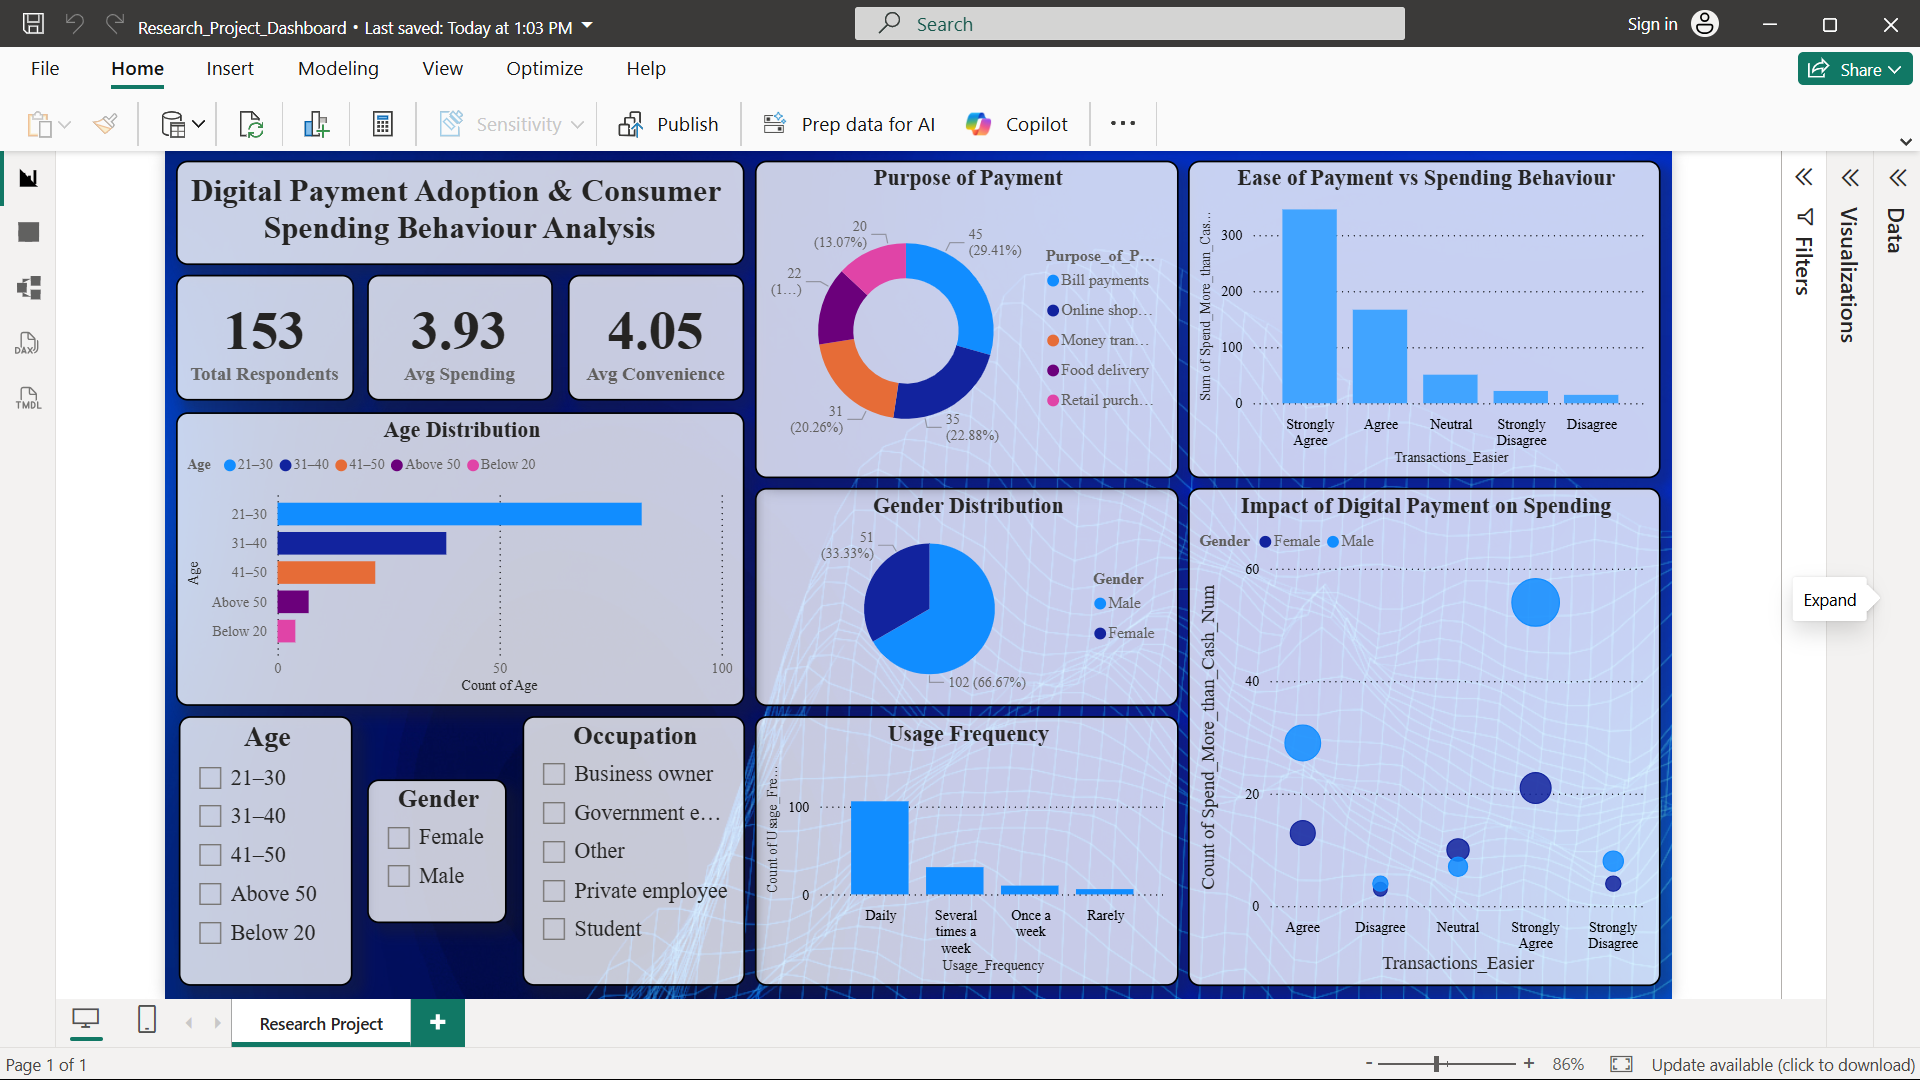

What the dashboard file says about the page in this screenshot:
{"tool":"powerbi","page":{"name":"Research Project","canvas":[1280,720],"ordinal":0},"visuals":[{"type":"textbox","box":[8.9,7.6,483,89],"z":0},{"type":"card","fields":{"Values":["CountNonNull(Research Project.Age )"]},"box":[8.9,105.5,151.3,106.8],"z":1000},{"type":"card","fields":{"Values":["Research Project.Avg_Spending"]},"box":[171.6,105.5,157.6,106.8],"z":2000},{"type":"card","fields":{"Values":["Research Project.Avg_Convenience"]},"box":[341.9,105.5,150,106.8],"z":3000},{"type":"pieChart","title":"Gender Distribution","fields":{"Category":["Research Project.Gender"],"Y":["CountNonNull(Research Project.Gender)"]},"box":[500.8,286,359.7,185.6],"z":4000},{"type":"barChart","title":"Age Distribution ","fields":{"Series":["Research Project.Age "],"Category":["Research Project.Age "],"Y":["CountNonNull(Research Project.Age )"]},"box":[8.9,222.4,483,249.1],"z":5000},{"type":"clusteredColumnChart","title":"Usage Frequency","fields":{"Category":["Research Project.Usage_Frequency"],"Y":["CountNonNull(Research Project.Usage_Frequency)"]},"box":[500.8,480.5,359.7,228.8],"z":6000},{"type":"donutChart","title":"Purpose of Payment","fields":{"Category":["Research Project.Purpose_of_Payment"],"Y":["CountNonNull(Research Project.Purpose_of_Payment)"]},"box":[500.8,7.6,359.7,269.5],"z":7000},{"type":"clusteredColumnChart","title":"Ease of Payment vs Spending Behaviour","fields":{"Category":["Research Project.Transactions_Easier"],"Y":["Sum(Research Project.Spend_More_than_Cash_Num)"]},"box":[869.4,7.6,401.7,269.5],"z":8000},{"type":"scatterChart","title":"Impact of Digital Payment on Spending","fields":{"Y":["CountNonNull(Research Project.Spend_More_than_Cash_Num)"],"Series":["Research Project.Gender"],"Size":["CountNonNull(Research Project.Spend_More_than_Cash_Num)"],"X":["Research Project.Transactions_Easier"]},"box":[869.4,286,401.7,423.3],"z":9000},{"type":"slicer","title":"Gender","fields":{"Values":["Research Project.Gender"]},"box":[171.6,533.5,118.4,122.4],"z":10000},{"type":"slicer","title":"Age","fields":{"Values":["Research Project.Age "]},"box":[12,480.2,147.7,228.8],"z":11000},{"type":"slicer","title":"Occupation","fields":{"Values":["Research Project.Occupation"]},"box":[303.3,480.2,188.9,228.8],"z":12000}]}

Visuals, with their boxes on the page's 1280x720 design canvas (x1, y1, x2, y2). These are canvas units, not pixel positions in the 1920x1080 screenshot, which may show the page scaled, cropped or inside an application window:
textbox: l=9, t=8, r=492, b=97
card - CountNonNull(Research Project.Age ): l=9, t=106, r=160, b=212
card - Research Project.Avg_Spending: l=172, t=106, r=329, b=212
card - Research Project.Avg_Convenience: l=342, t=106, r=492, b=212
"Gender Distribution" pieChart: l=501, t=286, r=860, b=472
"Age Distribution " barChart: l=9, t=222, r=492, b=472
"Usage Frequency" clusteredColumnChart: l=501, t=480, r=860, b=709
"Purpose of Payment" donutChart: l=501, t=8, r=860, b=277
"Ease of Payment vs Spending Behaviour" clusteredColumnChart: l=869, t=8, r=1271, b=277
"Impact of Digital Payment on Spending" scatterChart: l=869, t=286, r=1271, b=709
"Gender" slicer: l=172, t=534, r=290, b=656
"Age" slicer: l=12, t=480, r=160, b=709
"Occupation" slicer: l=303, t=480, r=492, b=709
